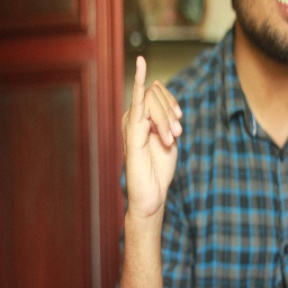I: (118, 55, 186, 215)
